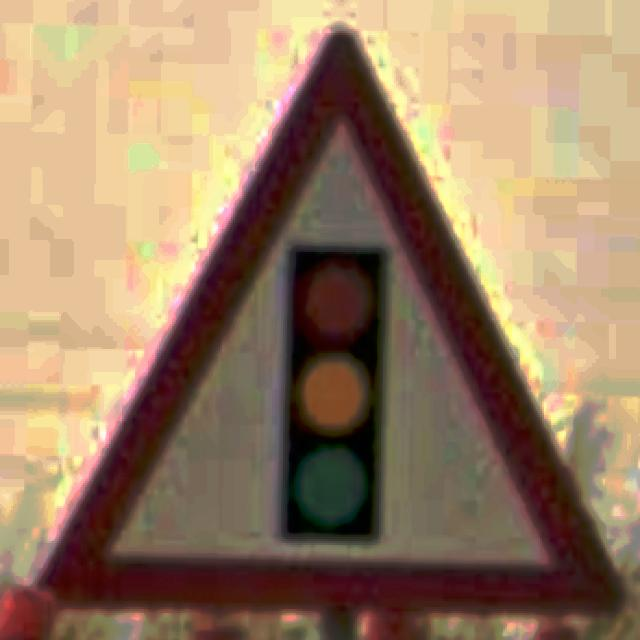signalahead: (41, 33, 625, 615)
